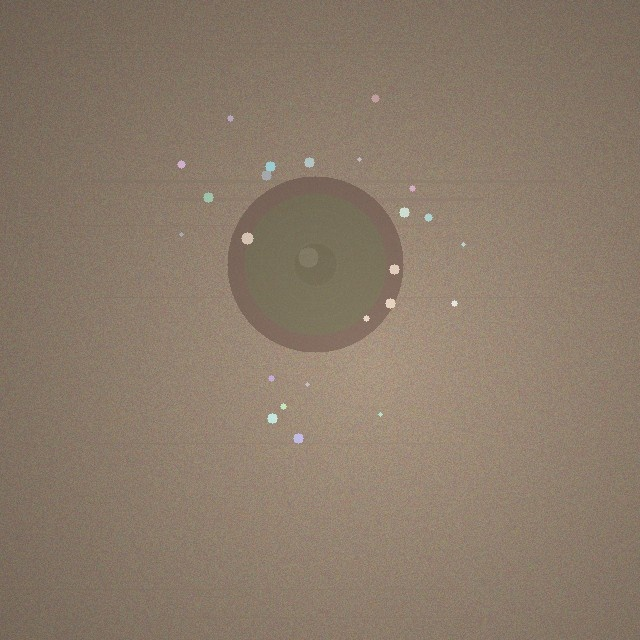overburn: (227, 176, 403, 352)
